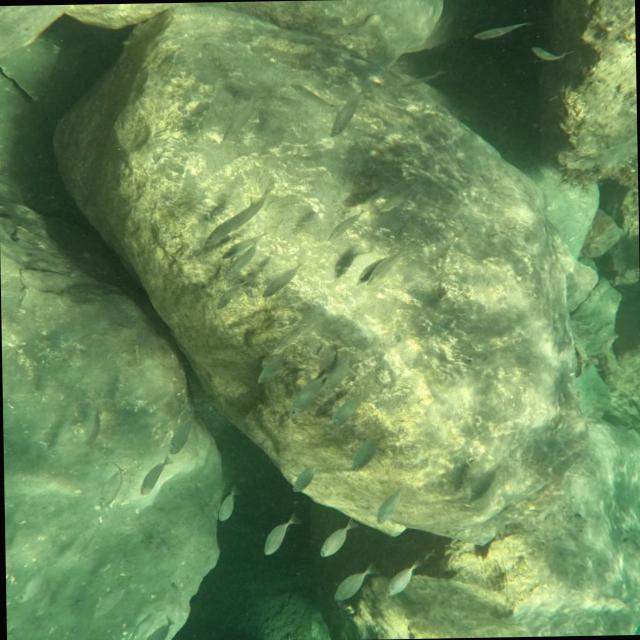Sokar Baligi: (314, 554, 380, 608), (373, 550, 442, 601), (254, 510, 307, 559)
